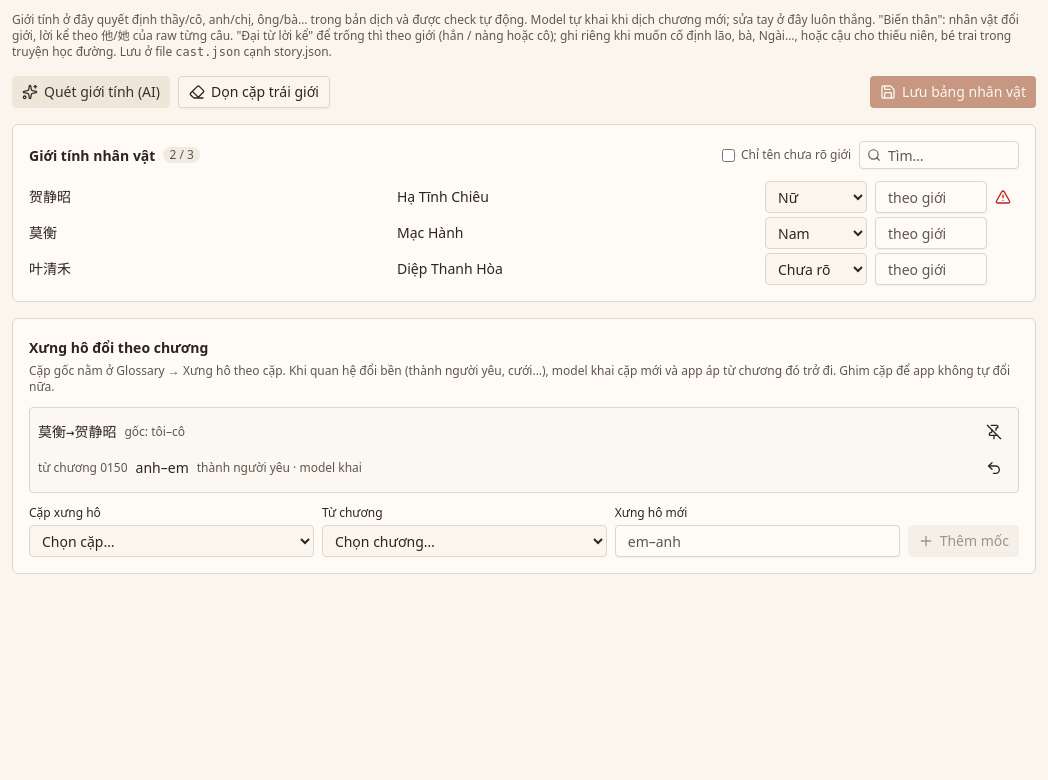
it: CastPanel › quét giới tính nạp bảng mới và báo số điền được; dọn cặp trái giới báo story đổi
Expected: the text "贺静昭" is shown, x1=29 y1=189 x2=71 y2=205
Click the button "Quét giới tính (AI)".
click(91, 92)  # box x1=12 y1=76 x2=170 y2=108
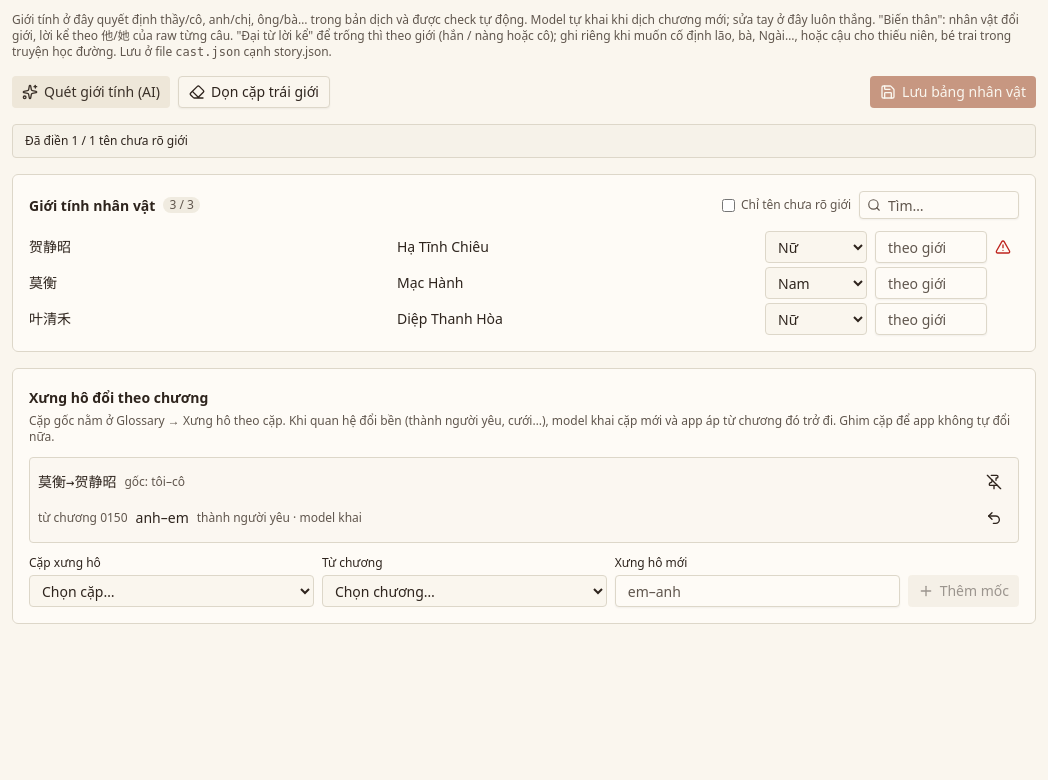
Result: the text "Đã điền 1 / 1 tên chưa rõ giới" is shown at x1=12 y1=124 x2=1036 y2=158
Result: the dropdown named "Giới tính 叶清禾" shows "Nữ" at x1=765 y1=303 x2=867 y2=335
Click the button "Dọn cặp trái giới".
click(254, 92)  # box x1=178 y1=76 x2=330 y2=108
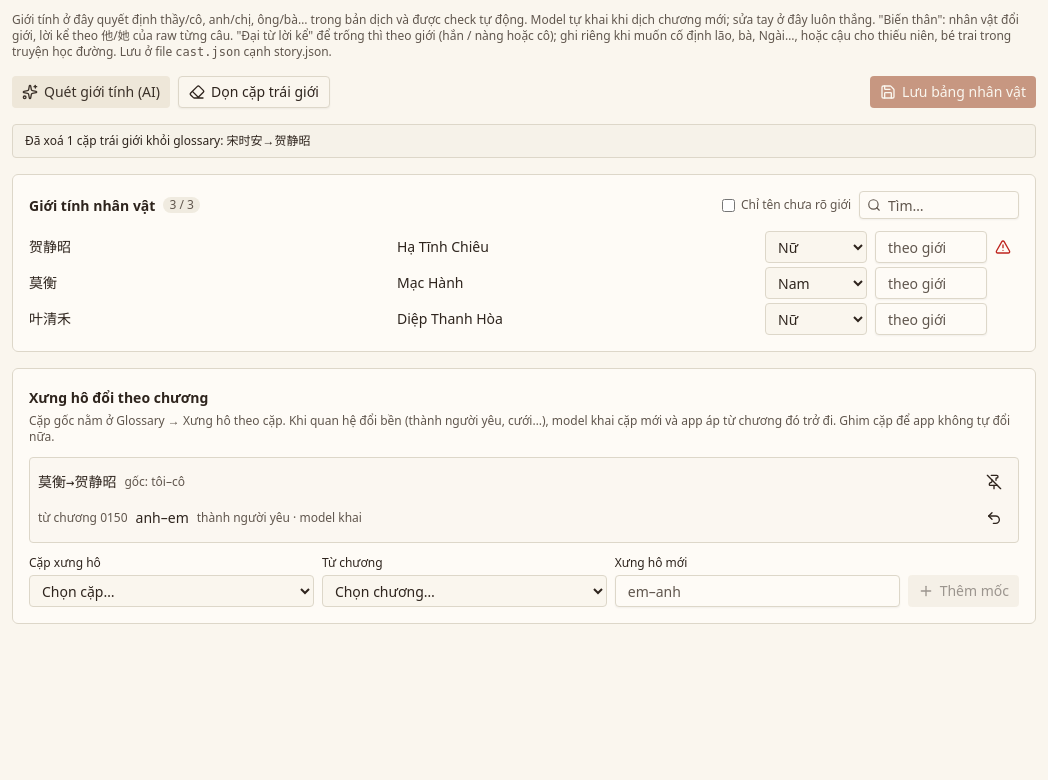
Result: the text "Đã xoá 1 cặp trái giới khỏi glossary: 宋时安→贺静昭" is shown at x1=12 y1=124 x2=1036 y2=158
